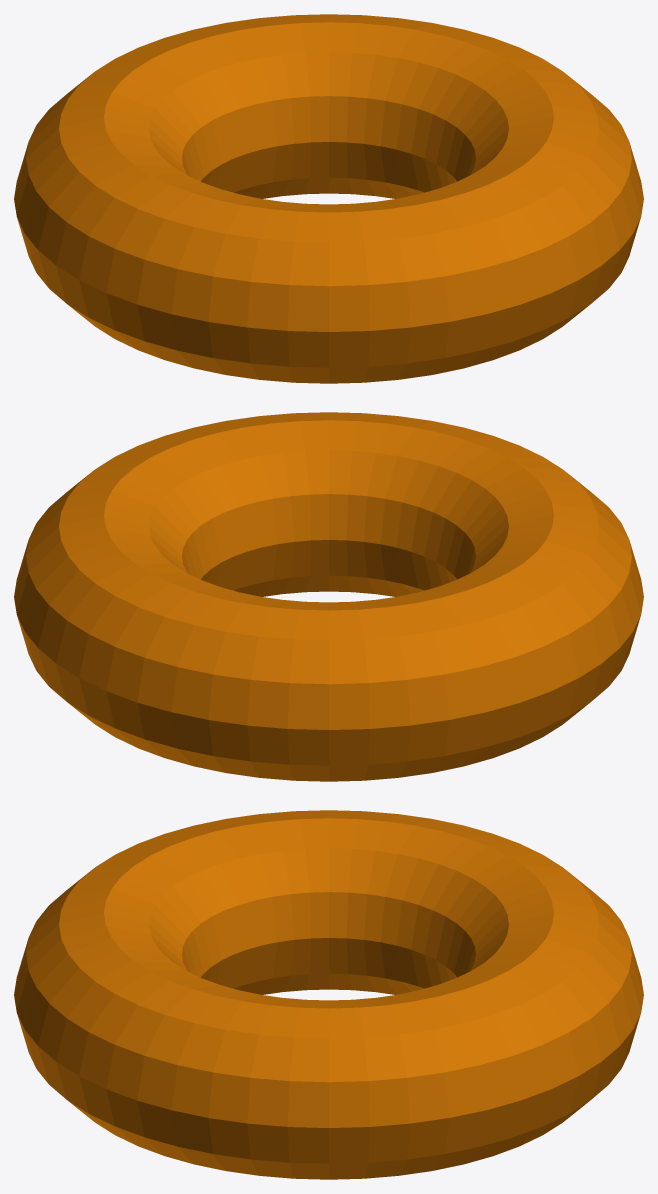
3 renders of one model, top to bottom at view 1: azimuth 30°, elevation 25°; view 2: azimuth 150°, elevation 25°; view 3: azimuth 270°, elevation 25°, orthographic.
Visible parts, largest first — view 1: Torus; view 2: Torus; view 3: Torus.
Part boxes in pixels (left/top/right/bottom): Torus: left=14, top=14, right=643, bottom=383; Torus: left=14, top=412, right=643, bottom=781; Torus: left=14, top=810, right=643, bottom=1179.
Size of the model in its own units: 210 by 60 by 210.
